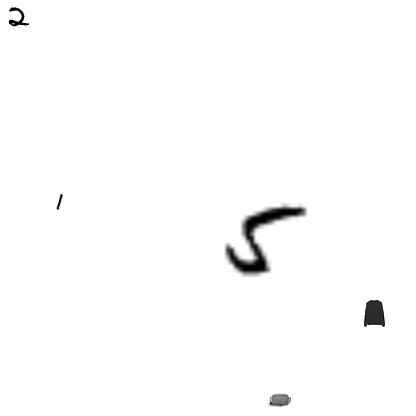1: (48, 190, 70, 212)
2: (3, 4, 31, 32)
5: (202, 180, 314, 292)
Bag: (269, 389, 291, 411)
Pullover: (360, 299, 388, 327)
